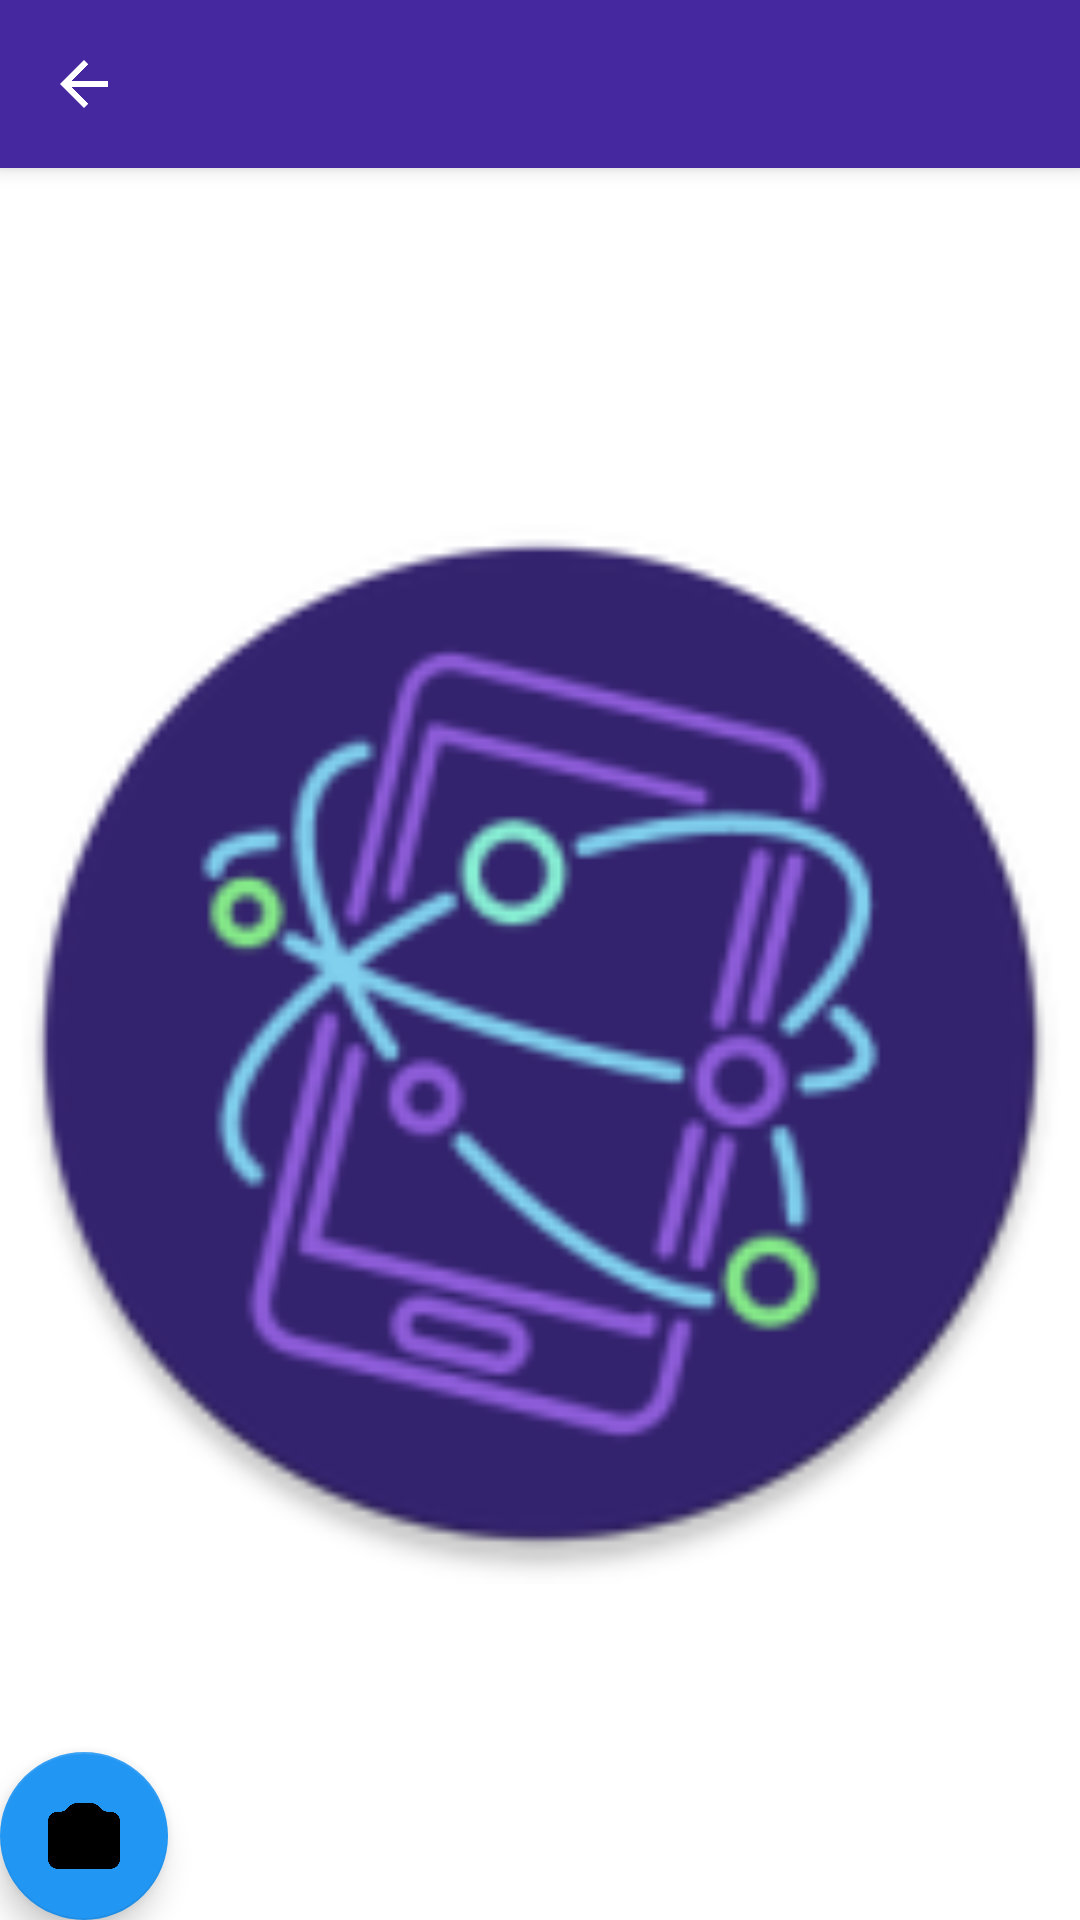

Screen size 1080px×1920px. Icon name, then its center in pixels as point (x, y):
camera: point (84, 1836)
